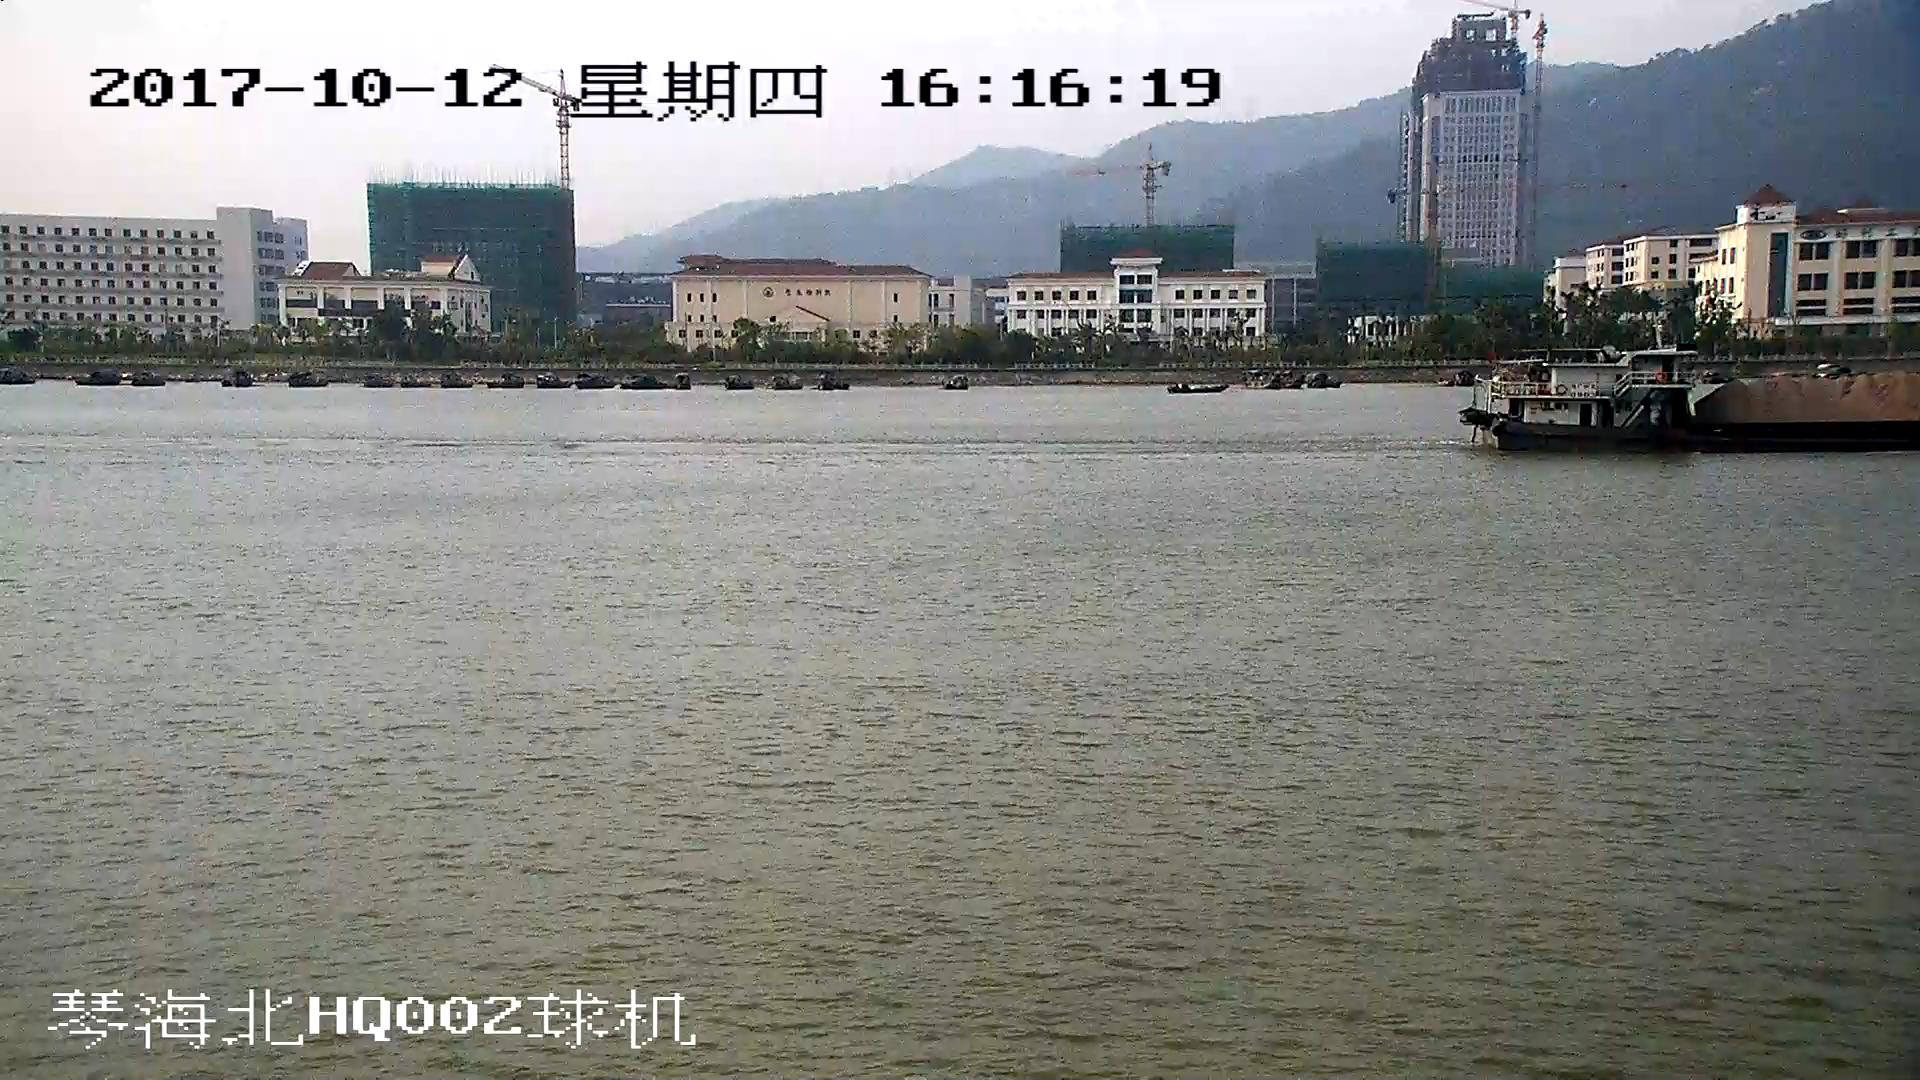ore carrier: (1469, 351, 1920, 453)
